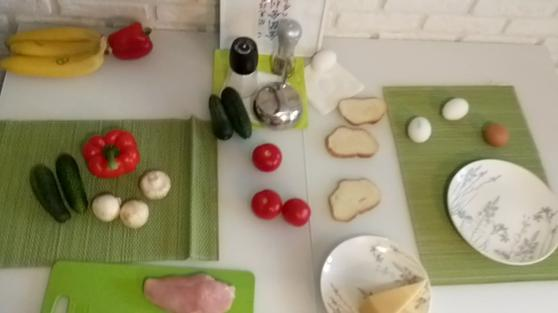banana: (1, 53, 114, 82), (5, 38, 105, 61), (8, 23, 106, 44)
champignon: (141, 170, 175, 200), (93, 192, 117, 225), (124, 197, 147, 228)
cheese: (369, 280, 432, 313)
chicken_fillet: (142, 270, 239, 313)
cucumber: (27, 164, 71, 226), (57, 155, 93, 213), (224, 77, 254, 138), (202, 92, 235, 141)
egg: (483, 119, 512, 152), (311, 49, 340, 74), (406, 116, 432, 141), (444, 97, 469, 123)
pepper: (86, 132, 139, 177), (106, 17, 159, 58)
tomato: (250, 141, 281, 176), (284, 192, 311, 228), (254, 191, 281, 216)
white_bread: (326, 173, 389, 223), (321, 125, 383, 161), (339, 95, 387, 126)
